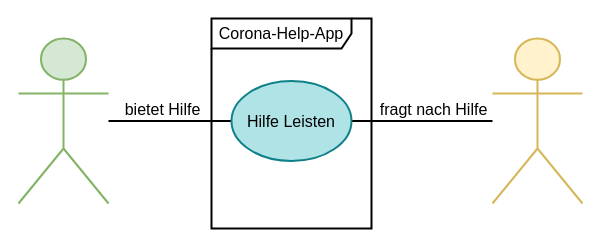
The diagram is 603 pixels wide and 246 high, and some of its shapes have lost their labels. The centre of each missing label's shape, as x and y in pixels:
"HilfeAnbieter" belongs at point (63, 120).
"HilfeBraucher" belongs at point (537, 120).
